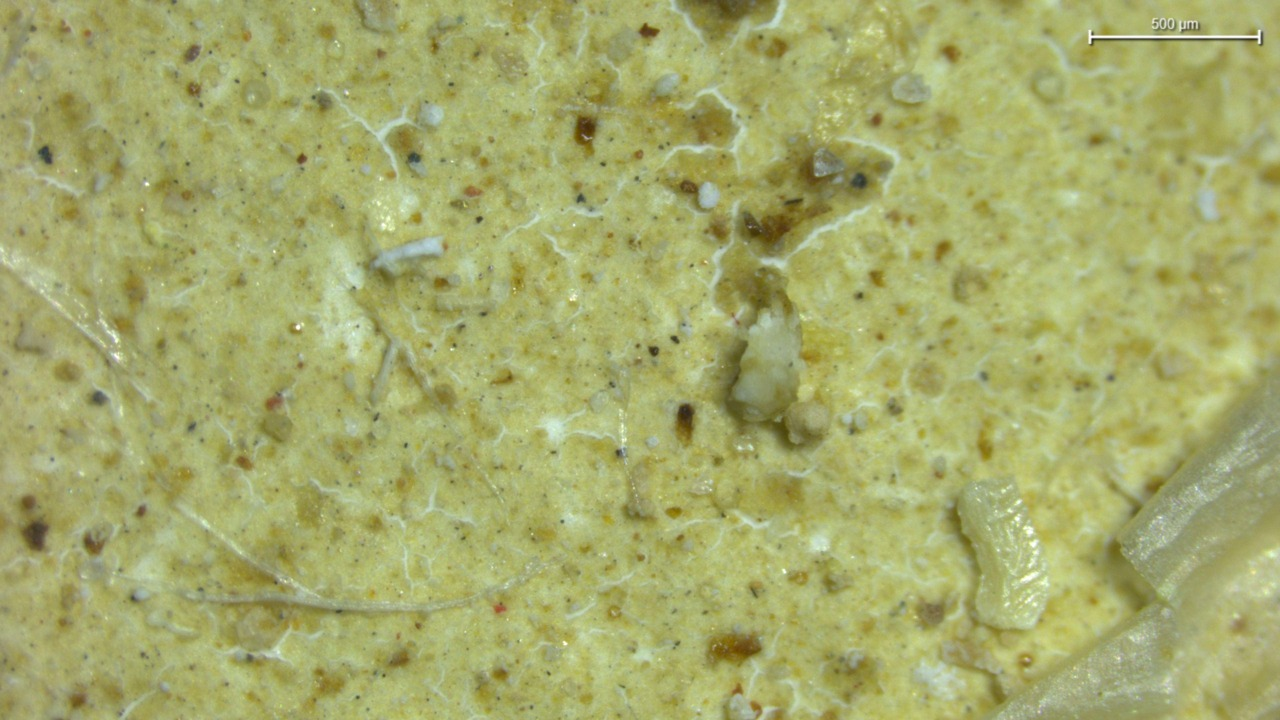microplastic_fragment: (957, 479, 1050, 629), (730, 293, 805, 421), (698, 181, 721, 209)
